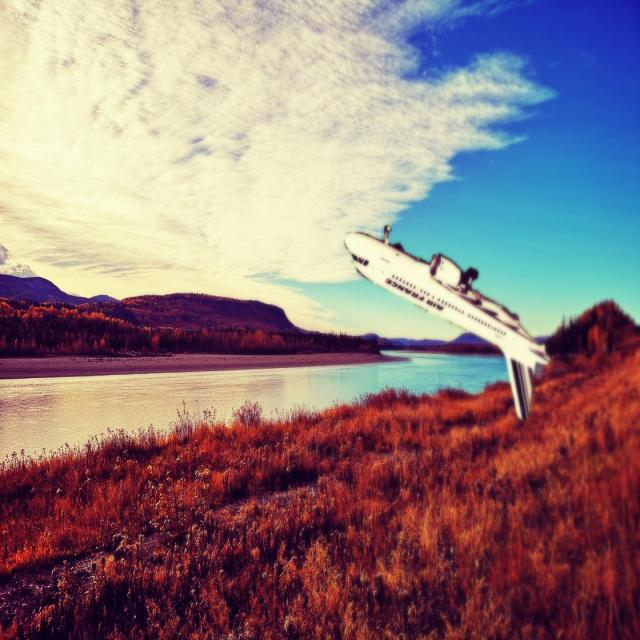airplane: (343, 224, 551, 421)
